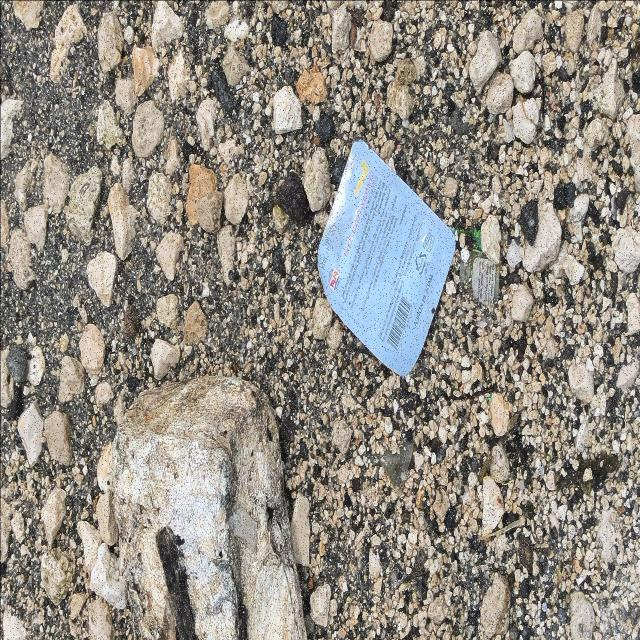plastic_waste: (317, 141, 457, 379)
